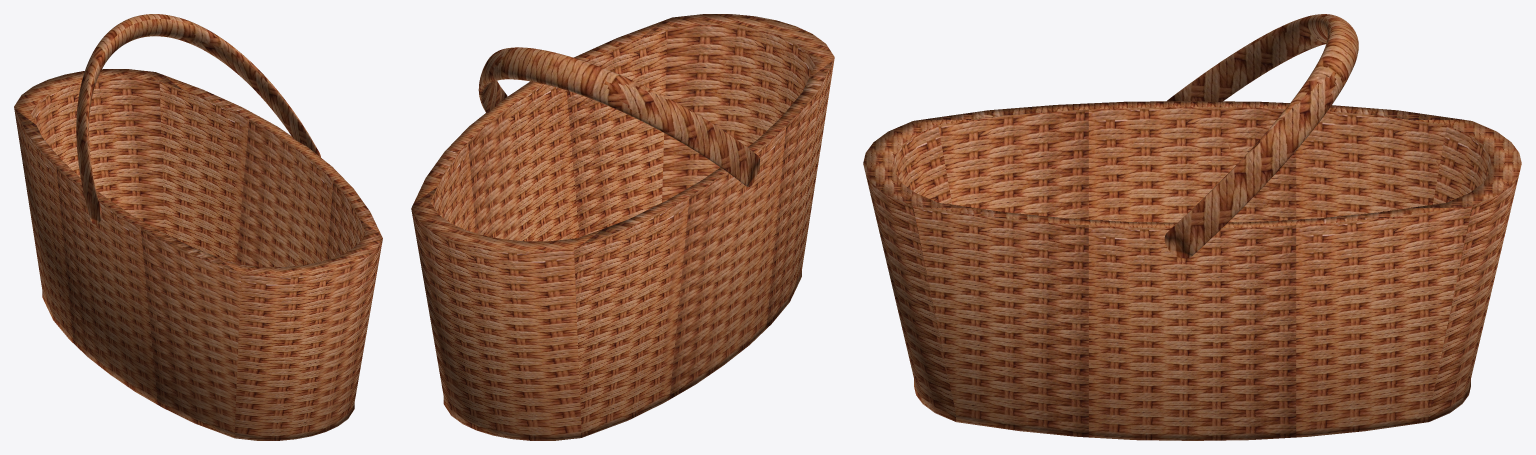
File: basket.fbx
3 views of the same model, side by side, from view 1: azimuth 30°, elevation 25°; view 2: azimuth 150°, elevation 25°; view 3: azimuth 270°, elevation 25° (orthographic). The views are drawn at different scales.
Visible parts, largest first — view 1: 立方体, 円; view 2: 立方体, 円; view 3: 立方体, 円.
Boxes of the visible parts, <box> form: 立方体: <box>14,69,382,440</box>; 円: <box>76,14,320,224</box>; 立方体: <box>411,14,834,440</box>; 円: <box>478,47,759,187</box>; 立方体: <box>863,101,1521,440</box>; 円: <box>1164,14,1358,258</box>.
Size of the model in its own units: 322 by 411 by 680.
1 material, 1 textured.
